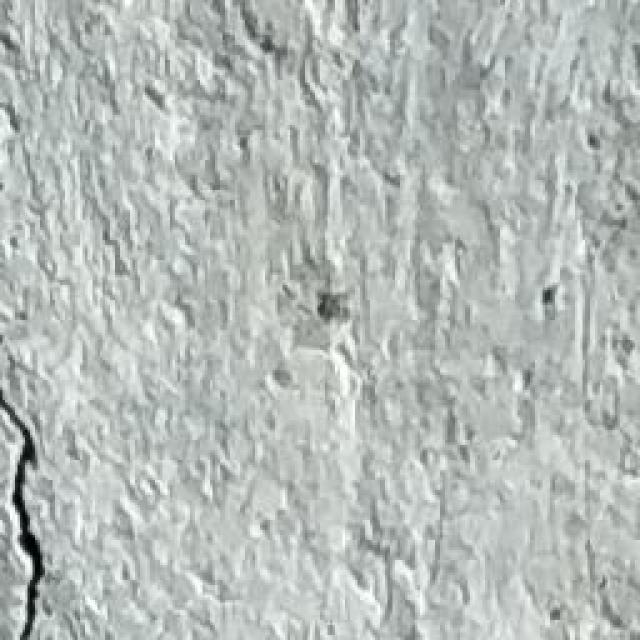Longitudinal: (0, 378, 50, 640)
